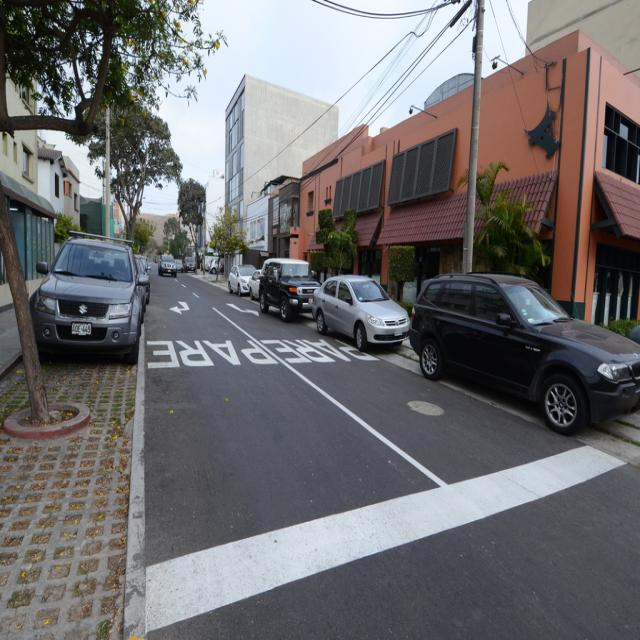car: (310, 268, 411, 354), (158, 254, 174, 276)
